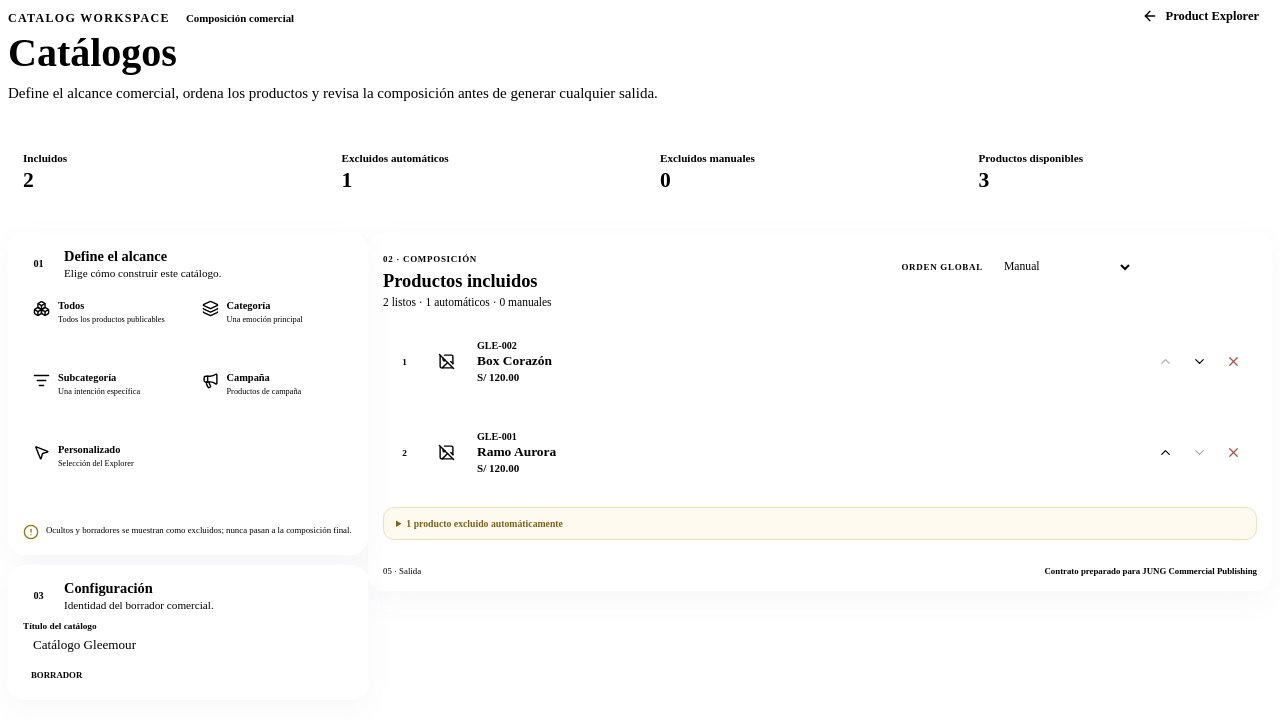
it: CatalogWorkspace › compone el catálogo completo y excluye borradores
Expected: the text "Box Corazón" is shown, [477,353,552,368]
Expected: the text "Ramo Aurora" is shown, [477,444,556,459]
Click the heading "1 producto excluido automáticamente" at (485, 523), box [406,518,563,529]
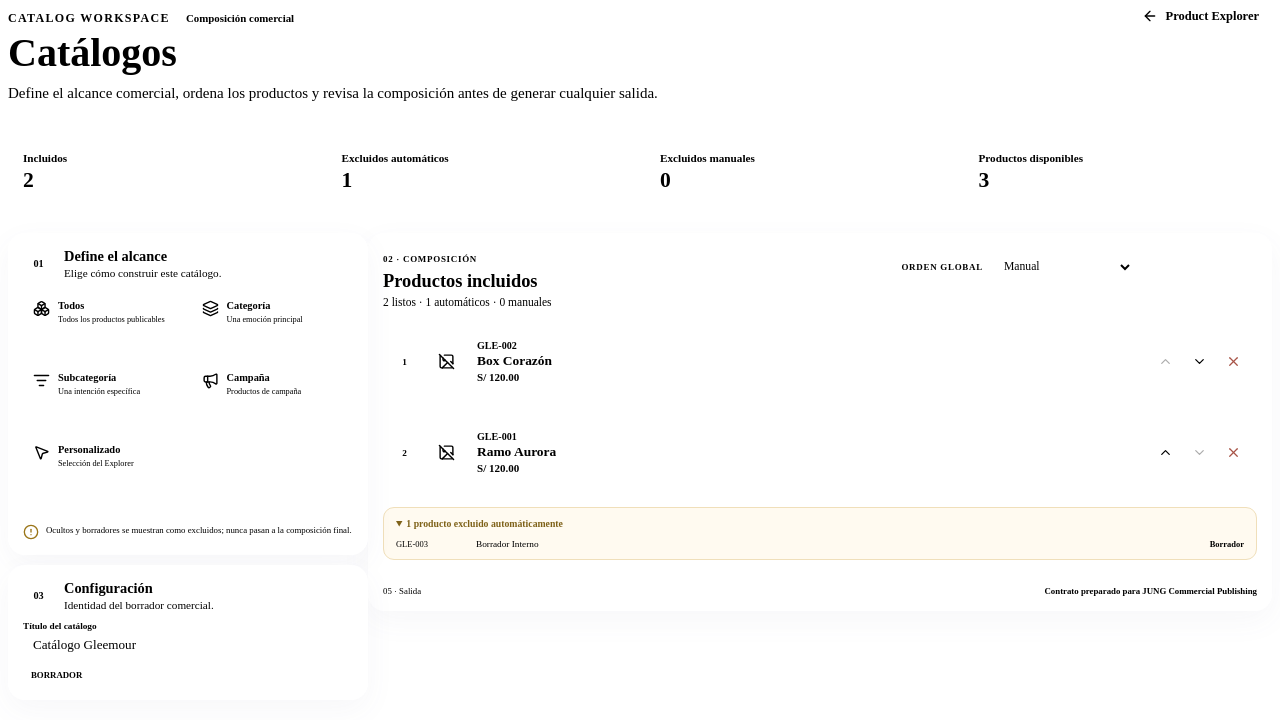
Result: the list item "Borrador Interno" is shown at [476,539,538,549]
